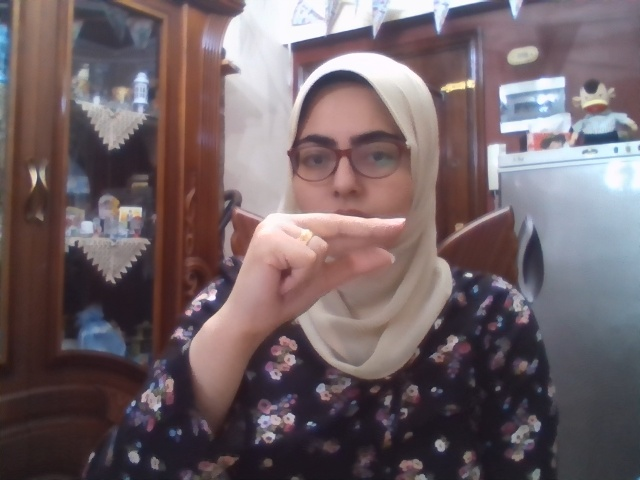no: (225, 213, 407, 335)
